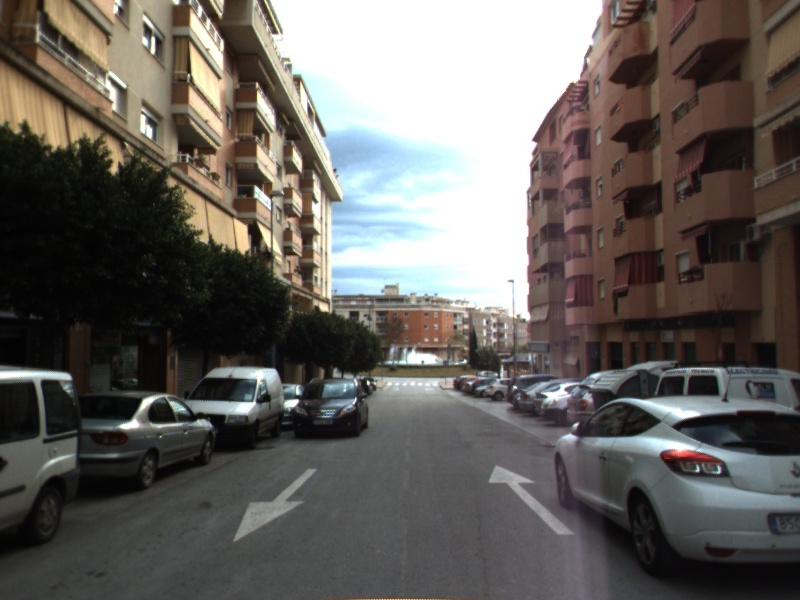STRAIGHT: (486, 462, 576, 537)
